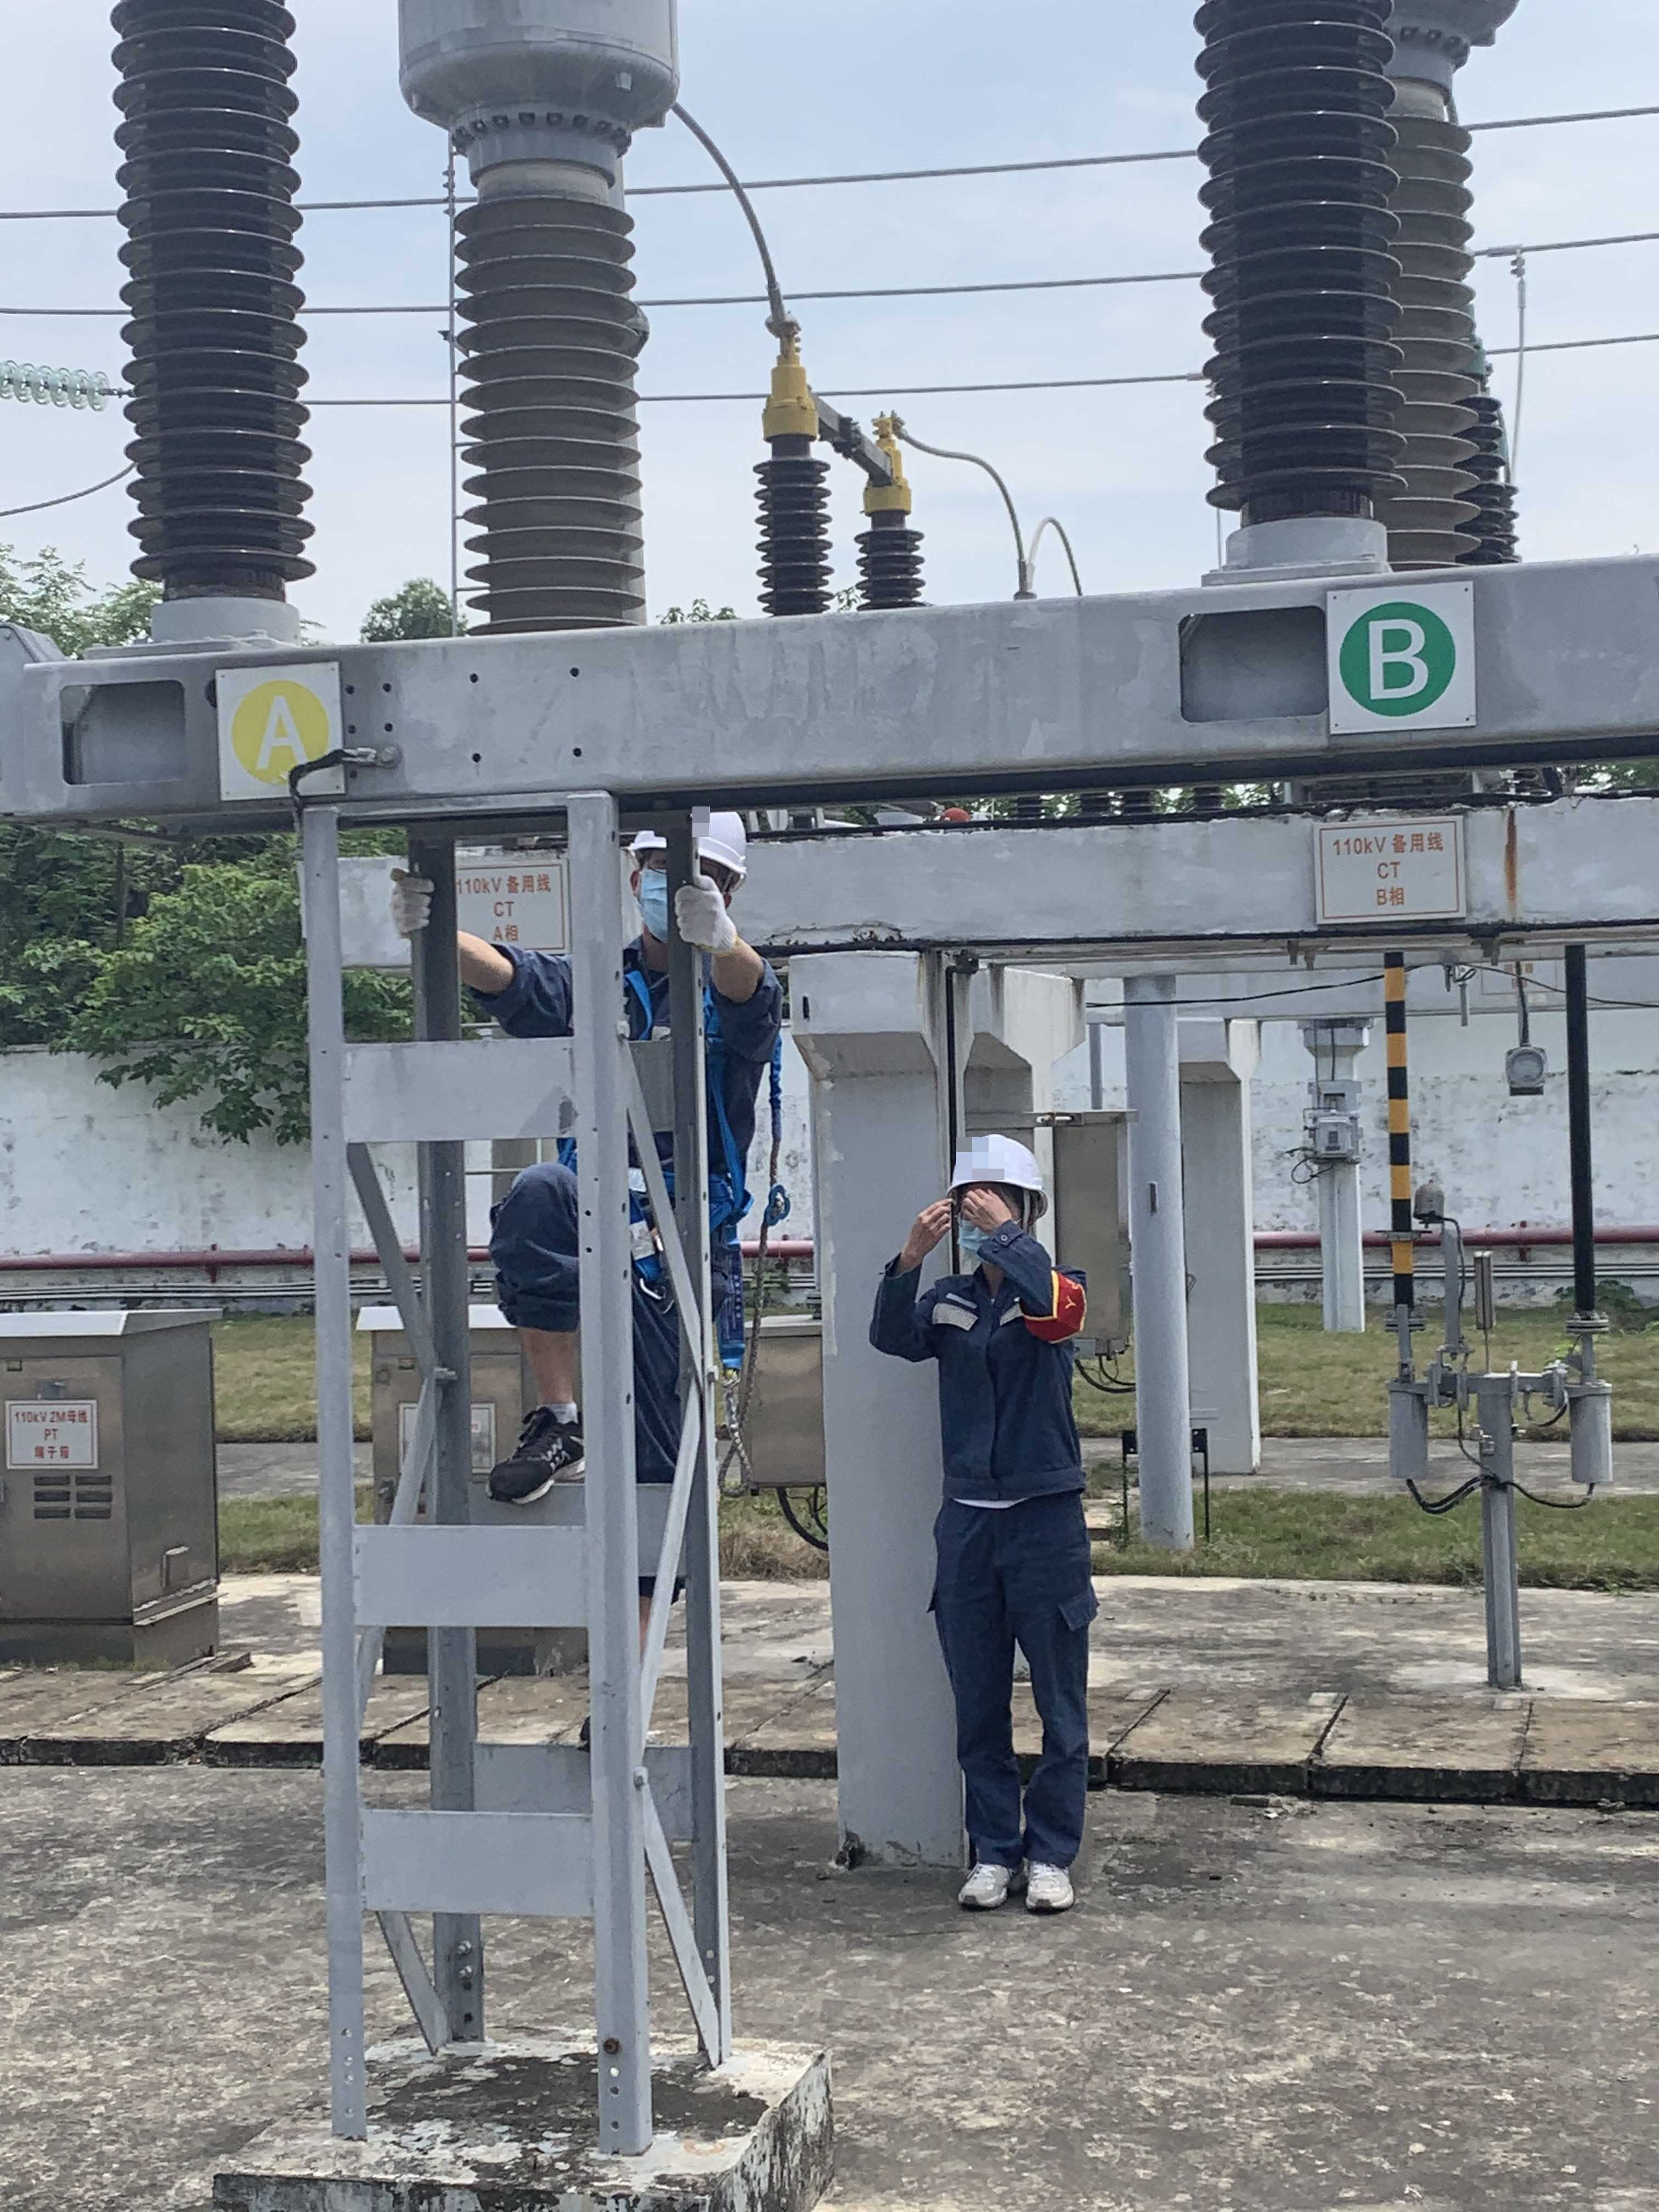downsuit: (486, 1160, 730, 1606), (931, 1517, 1100, 1872)
upsuit: (866, 1231, 1094, 1507), (479, 928, 784, 1132)
wrongbottom: (514, 1291, 586, 1426)
wrongtop: (439, 923, 528, 1005), (706, 935, 774, 1007)
